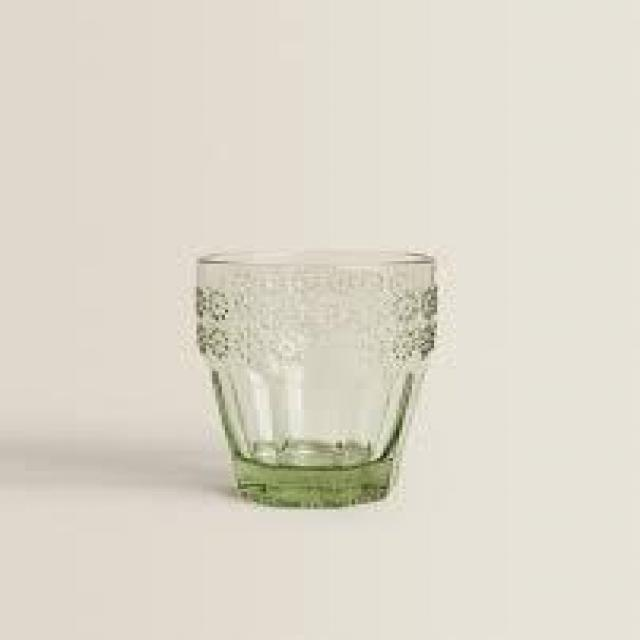glass: (182, 242, 445, 511)
